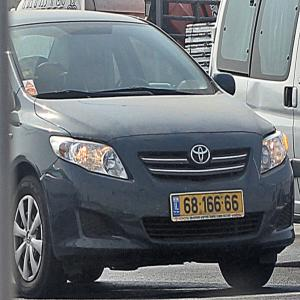Vehicle-registration-plate: (173, 192, 251, 231)
